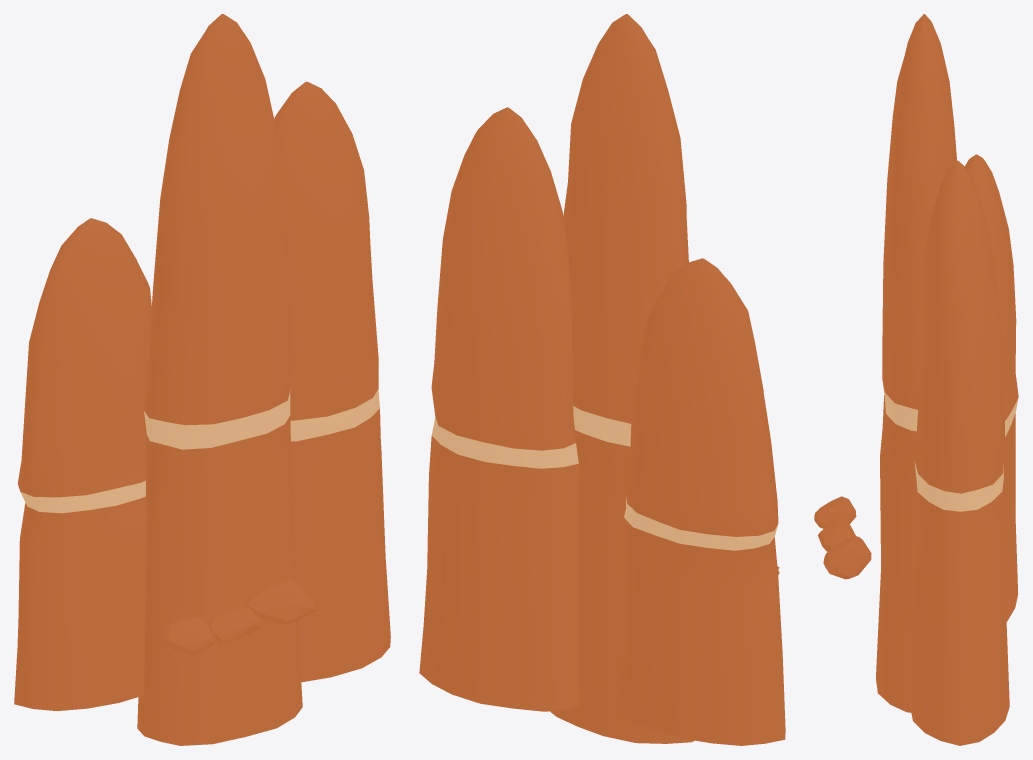
The model's file is Blender_SandstoneHoodoo_2.glb.
3 views of the same model, side by side, from view 1: azimuth 30°, elevation 25°; view 2: azimuth 150°, elevation 25°; view 3: azimuth 270°, elevation 25° (orthographic). The views are drawn at different scales.
Visible parts, largest first — view 1: Blender_SandstoneHoodoo_2; view 2: Blender_SandstoneHoodoo_2; view 3: Blender_SandstoneHoodoo_2.
Boxes of the visible parts, bbox=[...] form: Blender_SandstoneHoodoo_2: bbox=[14, 14, 390, 745]; Blender_SandstoneHoodoo_2: bbox=[419, 14, 785, 745]; Blender_SandstoneHoodoo_2: bbox=[814, 14, 1018, 745].
Bounding box in the file's own units: 7.28 × 13.2 × 3.68.
